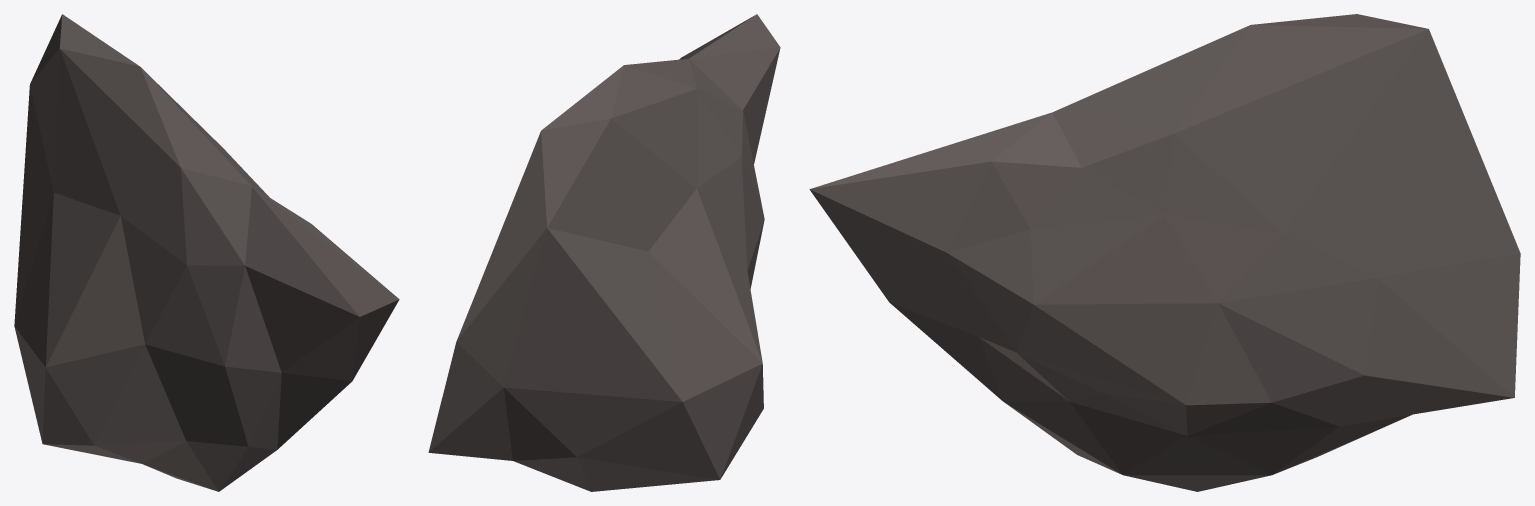
The model's file is Rock 4.fbx.
3 renders of one model, left to right at view 1: azimuth 30°, elevation 25°; view 2: azimuth 150°, elevation 25°; view 3: azimuth 270°, elevation 25°, orthographic. The views are drawn at different scales.
Visible parts, largest first — view 1: Rock 4; view 2: Rock 4; view 3: Rock 4.
Part boxes in pixels (x1,y1,x2,y2): Rock 4: (14,14,399,491); Rock 4: (428,14,780,491); Rock 4: (809,14,1520,491).
Bounding box in the file's own units: 81.97 × 149 × 209.
